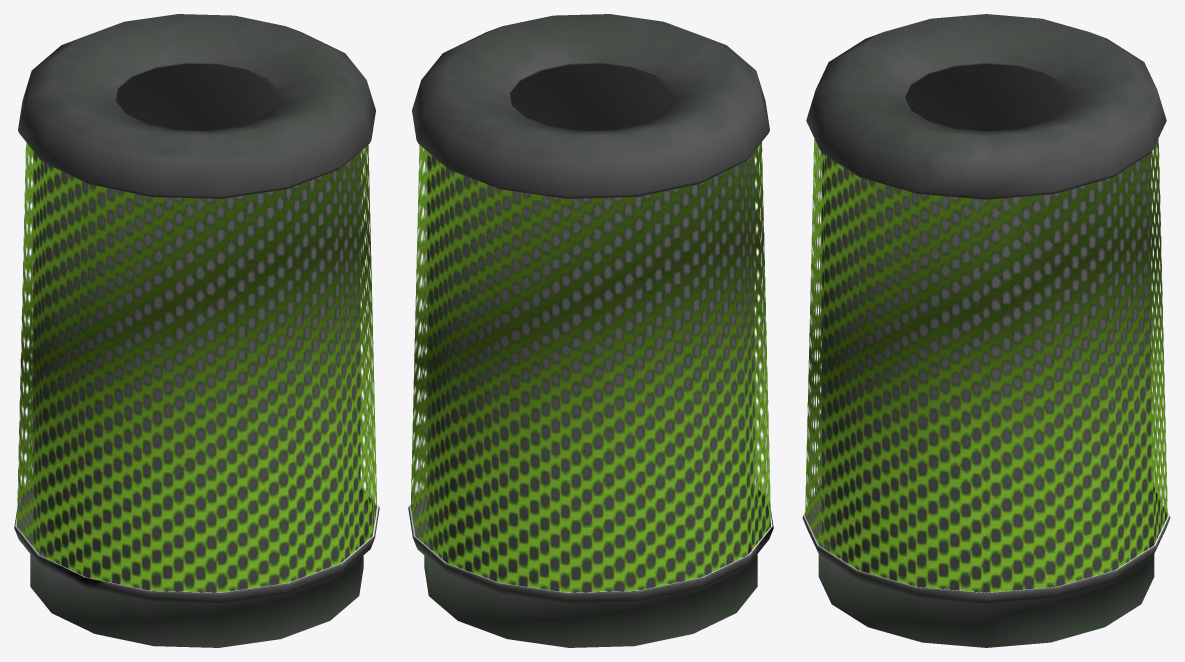
The model's file is o3_cestino_stradale.glb.
The picture shows the model from 3 angles, left to right: view 1: azimuth 30°, elevation 25°; view 2: azimuth 150°, elevation 25°; view 3: azimuth 270°, elevation 25°; orthographic projection.
Parts seen in each view (by area): view 1: sb_modello; view 2: sb_modello; view 3: sb_modello.
Part boxes in pixels (x1,y1,x2,y2): sb_modello: (14,14,379,647); sb_modello: (408,14,773,647); sb_modello: (802,14,1170,647).
Bounding box in the file's own units: 0.6117 × 0.92 × 0.6117.
1 material, 1 textured.
